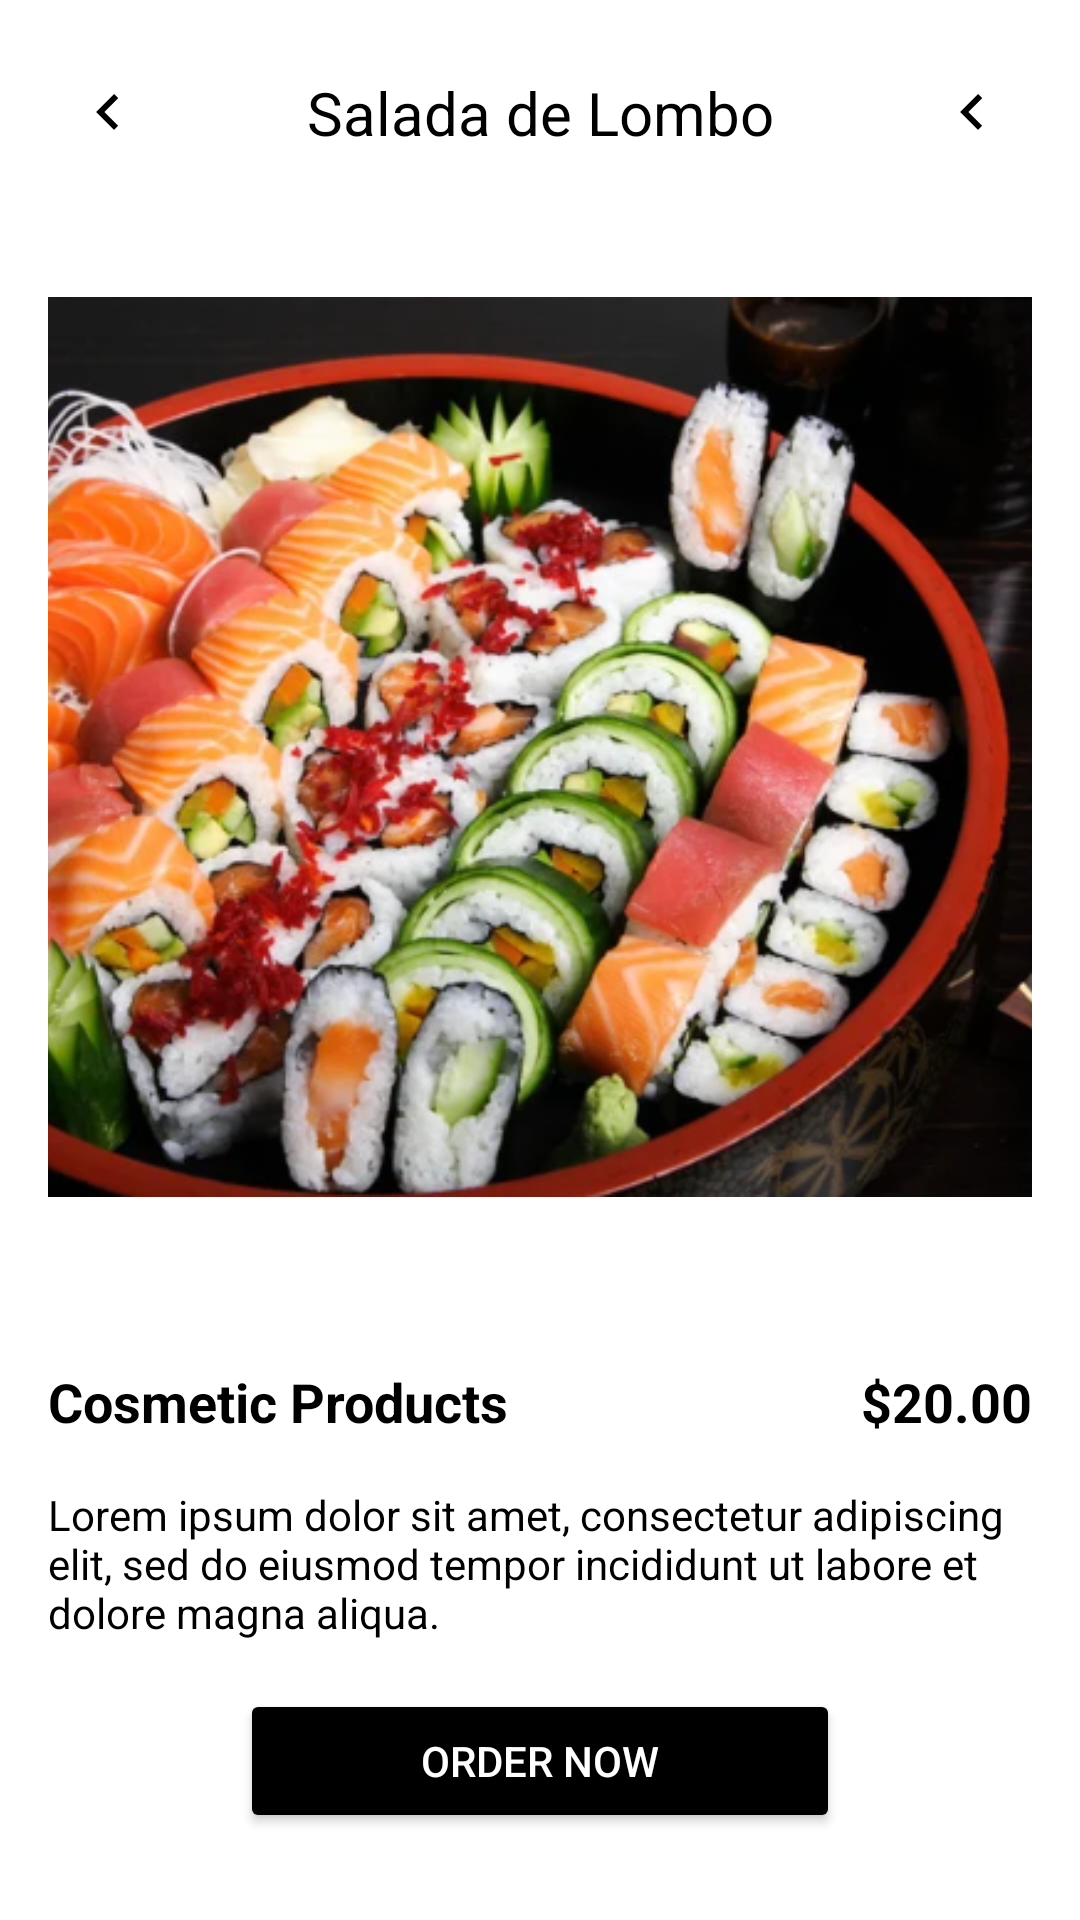

Locate icon controls on the screen. Image size 1080px x 1920px, boxes as (x1, y1, x2, y2).
Voltar: (96, 94, 118, 130)
